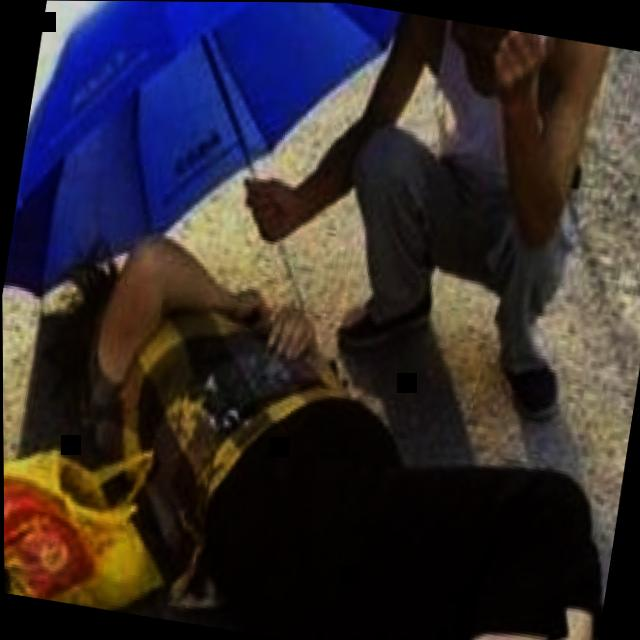Fall-Detected: (1, 205, 640, 640)
